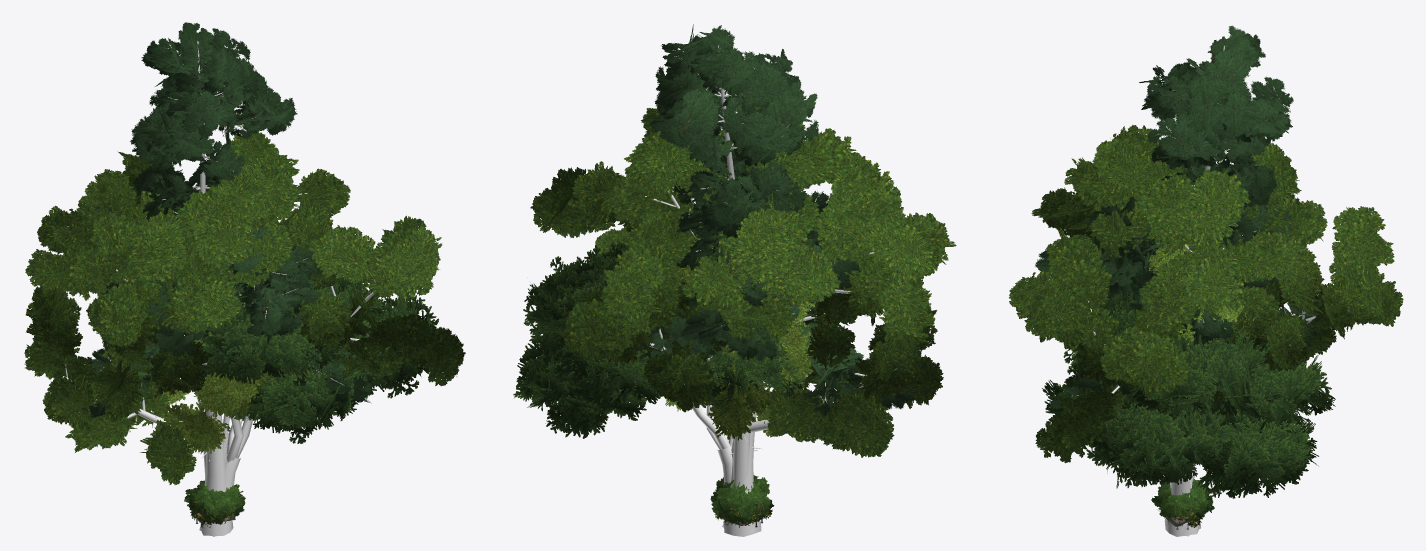
Rendered from environment.glb.
3 views of the same model, side by side, from view 1: azimuth 30°, elevation 25°; view 2: azimuth 150°, elevation 25°; view 3: azimuth 270°, elevation 25° (orthographic). The views are drawn at different scales.
Visible parts, largest first — view 1: Tree_Oak_Leaves, Tree_Pine_Leaves, Tree_Cypress_Leaves, Tree_Birch_Leaves, Tree_Oak_Bark, Bush_Green_Leaves, Tree_Cypress_Bark; view 2: Tree_Oak_Leaves, Tree_Pine_Leaves, Tree_Cypress_Leaves, Tree_Birch_Leaves, Bush_Green_Leaves, Tree_Oak_Bark, Tree_Pine_Bark, Tree_Cypress_Bark; view 3: Tree_Oak_Leaves, Tree_Cypress_Leaves, Tree_Pine_Leaves, Bush_Green_Leaves, Tree_Birch_Leaves, Tree_Oak_Bark.
Boxes of the visible parts, left/top/right/bottom form: Tree_Oak_Leaves: left=24, top=130, right=465, bottom=484; Tree_Pine_Leaves: left=79, top=22, right=373, bottom=425; Tree_Cypress_Leaves: left=154, top=275, right=438, bottom=443; Tree_Birch_Leaves: left=146, top=270, right=303, bottom=453; Tree_Oak_Bark: left=62, top=193, right=375, bottom=535; Bush_Green_Leaves: left=184, top=480, right=245, bottom=524; Tree_Cypress_Bark: left=197, top=394, right=252, bottom=536; Tree_Oak_Leaves: left=530, top=104, right=956, bottom=457; Tree_Pine_Leaves: left=639, top=24, right=921, bottom=416; Tree_Cypress_Leaves: left=513, top=242, right=818, bottom=438; Tree_Birch_Leaves: left=661, top=226, right=816, bottom=440; Bush_Green_Leaves: left=710, top=475, right=772, bottom=523; Tree_Oak_Bark: left=645, top=187, right=897, bottom=536; Tree_Pine_Bark: left=688, top=45, right=866, bottom=487; Tree_Cypress_Bark: left=692, top=383, right=754, bottom=535; Tree_Oak_Leaves: left=1009, top=125, right=1403, bottom=463; Tree_Cypress_Leaves: left=1042, top=286, right=1335, bottom=498; Tree_Pine_Leaves: left=1035, top=25, right=1326, bottom=408; Bush_Green_Leaves: left=1151, top=479, right=1214, bottom=522; Tree_Birch_Leaves: left=1144, top=243, right=1253, bottom=348; Tree_Oak_Bark: left=1088, top=216, right=1315, bottom=536.
Bounding box in the file's own units: 15.79 × 18.3 × 13.36.
17 materials, 4 textured.
